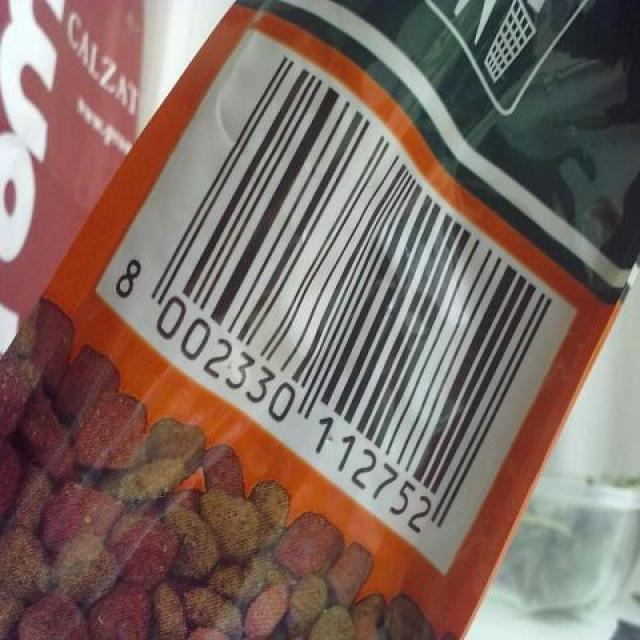Barcode: (90, 22, 578, 573)
